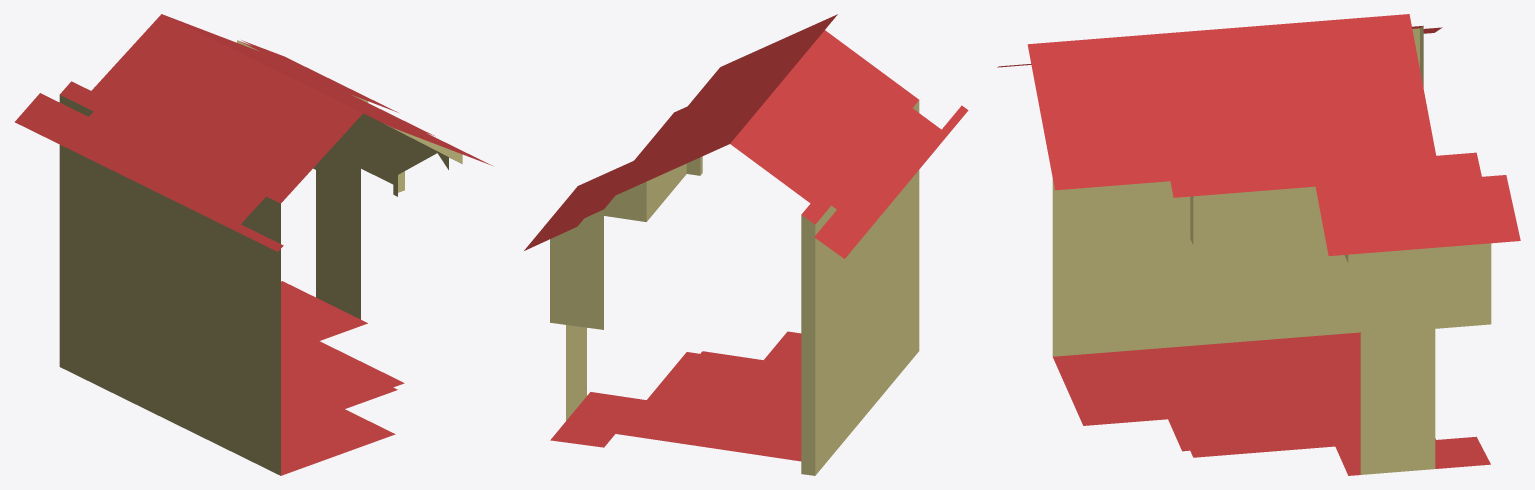
The picture shows the model from 3 angles, left to right: view 1: azimuth 30°, elevation 25°; view 2: azimuth 150°, elevation 25°; view 3: azimuth 270°, elevation 25°; orthographic projection. The views are drawn at different scales.
Size of the model in its own units: 17.33 by 21.17 by 16.32.
